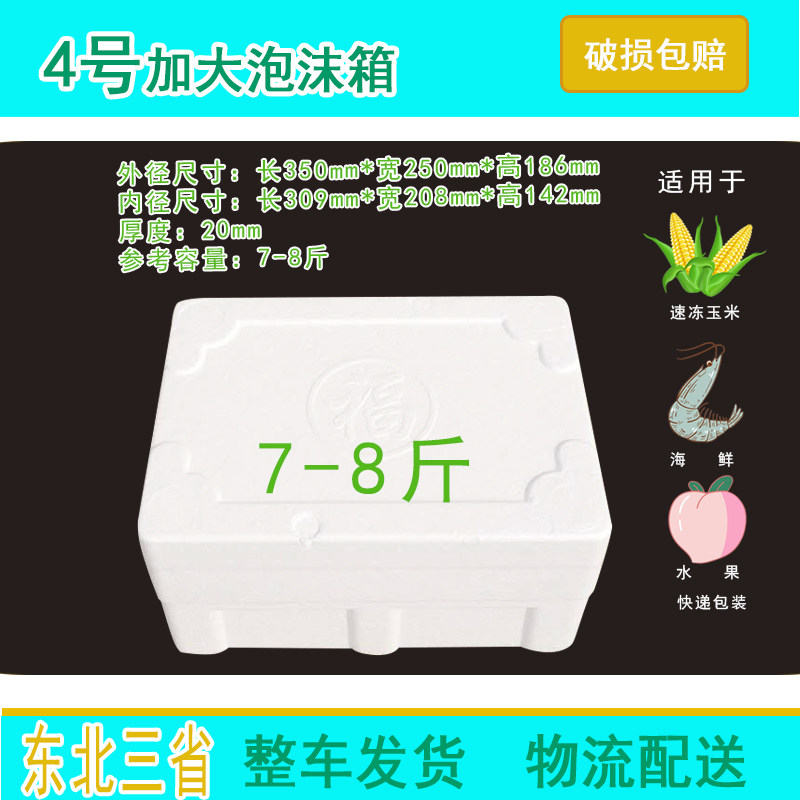Boxes: (138, 297, 611, 654)
